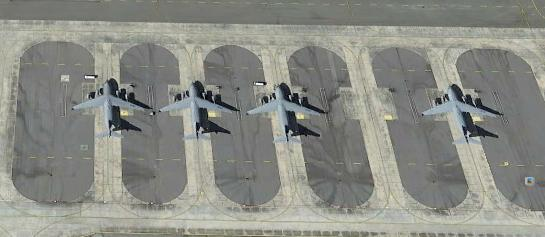C-17: (69, 73, 152, 142), (420, 81, 503, 150), (250, 81, 323, 149), (159, 81, 232, 145)
